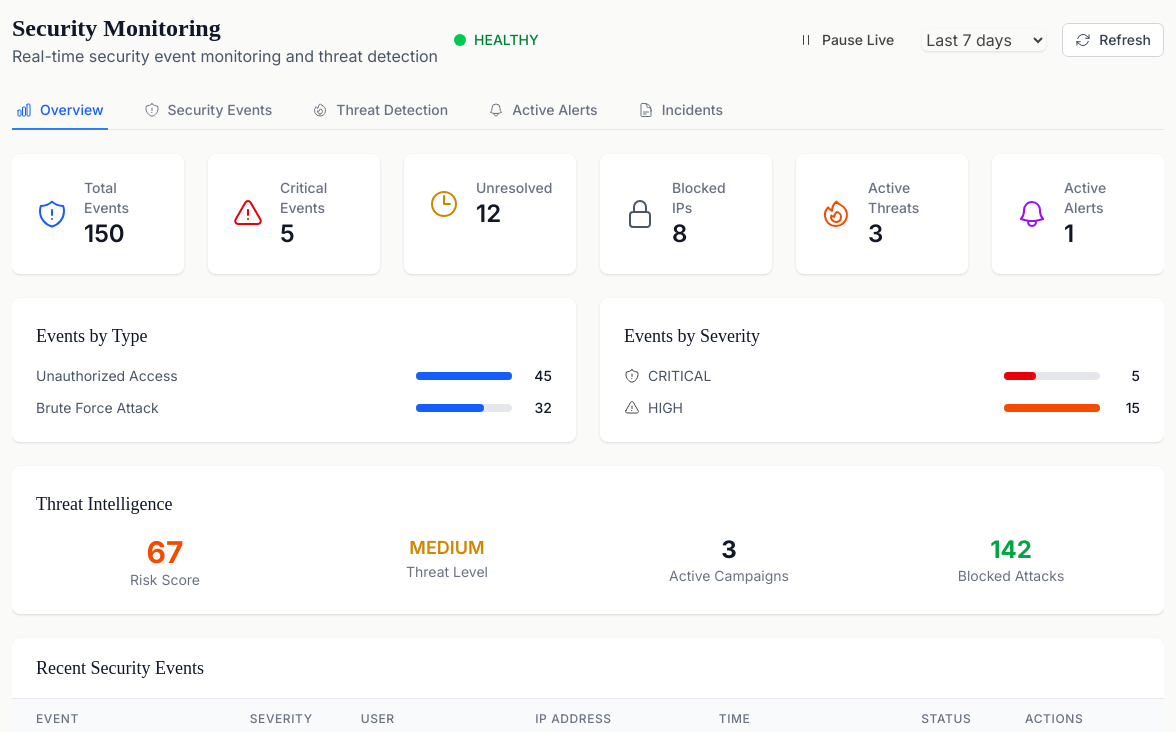
SecurityMonitoringDashboard › switches between tabs correctly
Expected: the text "Overview" is shown, [40,100,104,120]
Note: Click on Security Events tab
Click the button "Security Events". click: (208, 111)
box: [140,92,276,130]
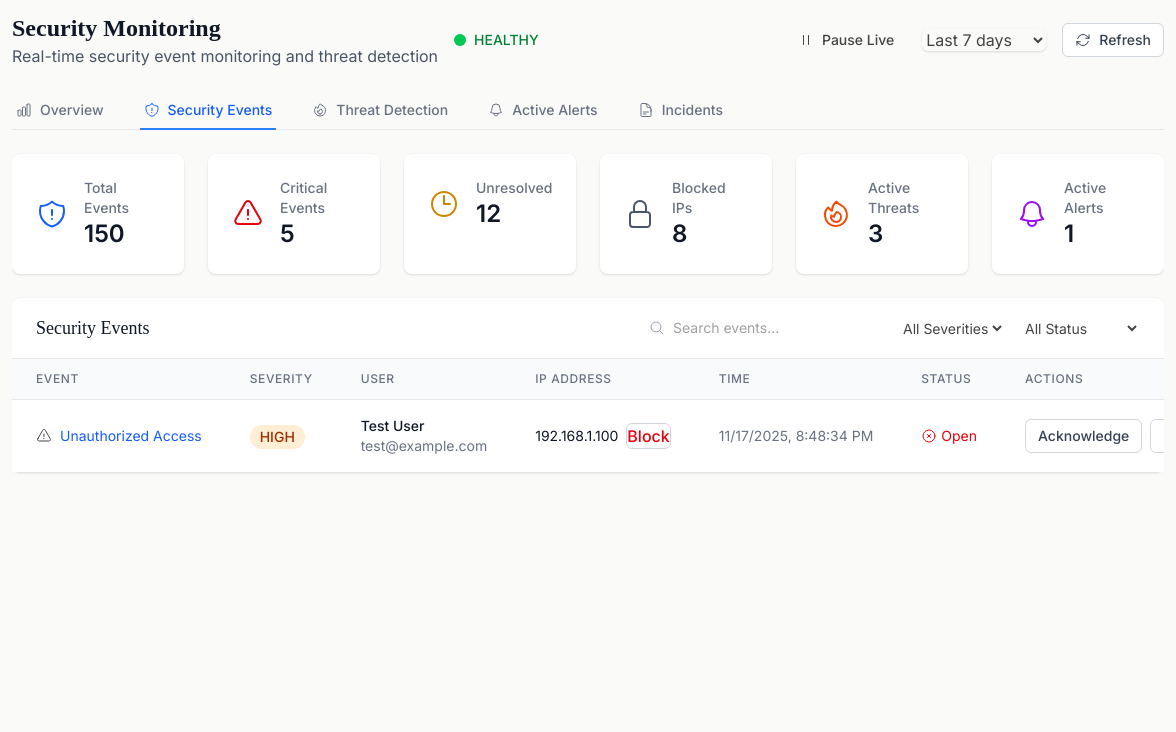
Expected: the field with placeholder "Search events..." is shown, [673,318,883,338]
